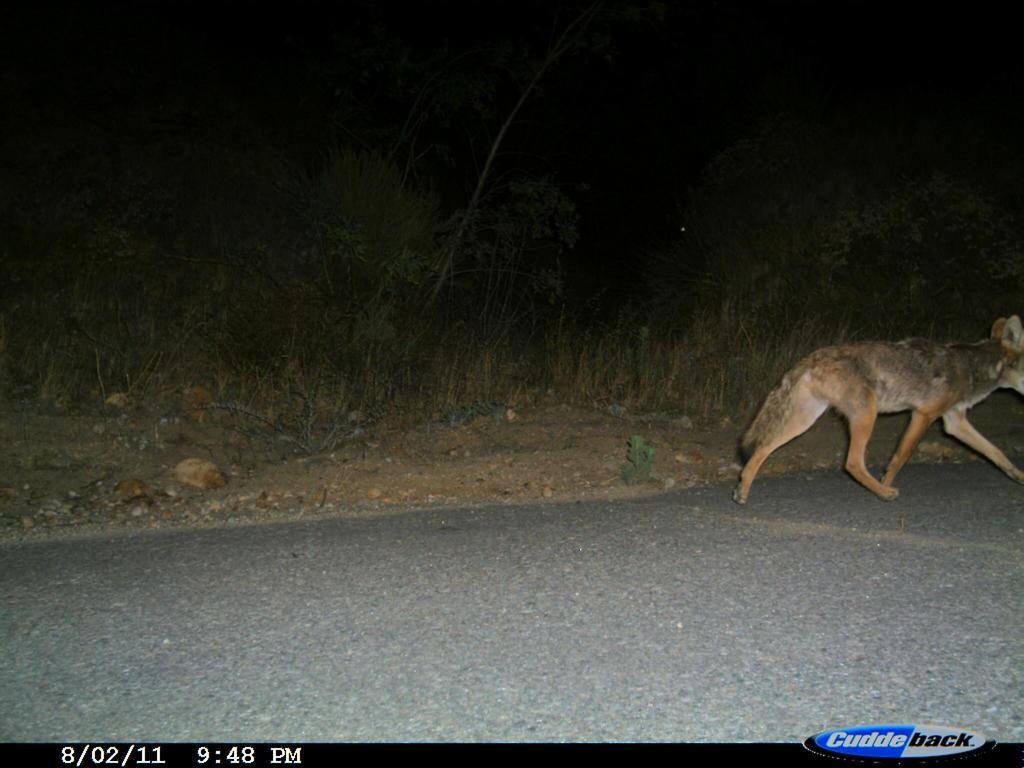coyote: (725, 304, 1024, 519)
